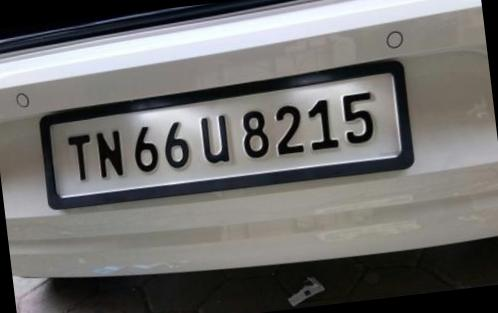plate: (34, 63, 414, 210)
